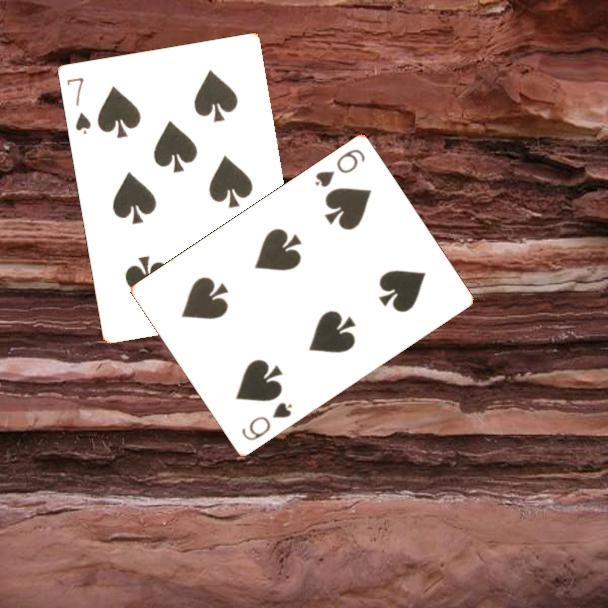s06: (238, 399, 295, 444), (311, 146, 368, 191)
s07: (63, 74, 93, 137)
